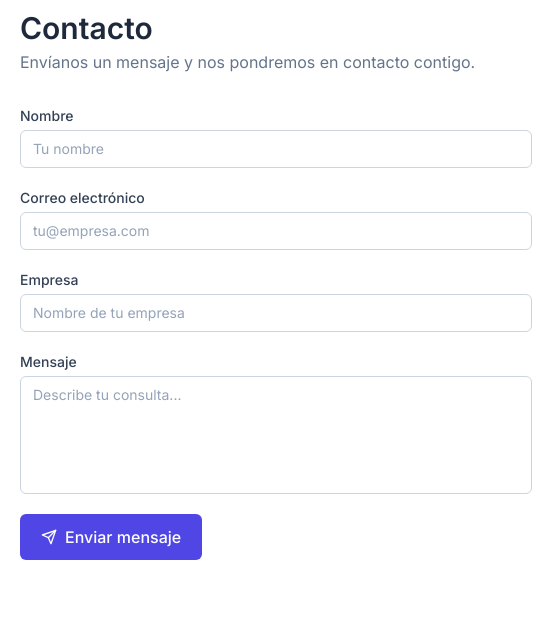
ContactPage › muestra errores de validación si se envía vacío
Click the button "Enviar mensaje": point(111, 537) 20,514 -> 202,560
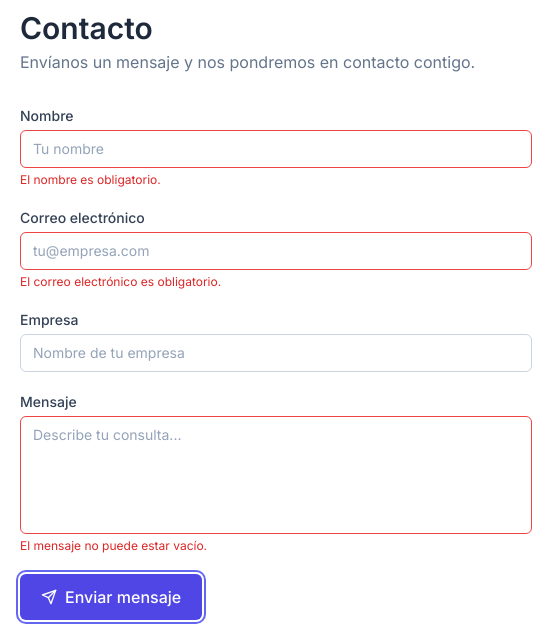
Expected: the text "El nombre es obligatorio." is shown, 20,172 -> 161,187
Expected: the text "El correo electrónico es obligatorio." is shown, 20,274 -> 221,289
Expected: the text "El mensaje no puede estar vacío." is shown, 20,538 -> 207,553
